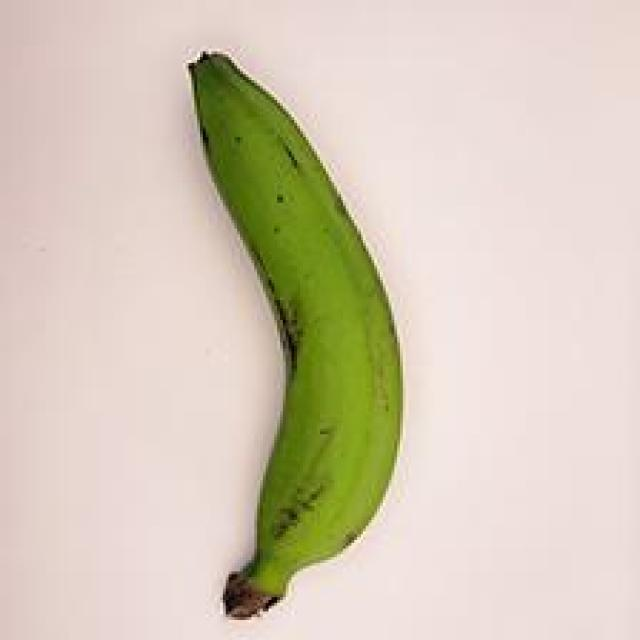Raw: (148, 32, 422, 621)
